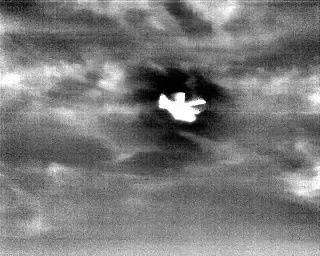HELICOPTER: (156, 85, 209, 127)
